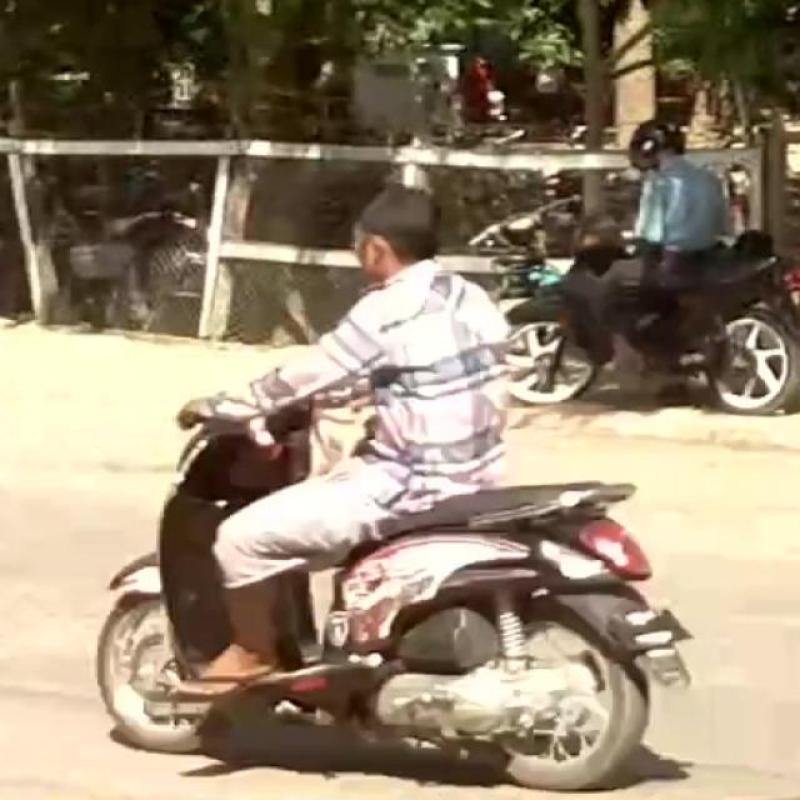nohelmet: (338, 172, 493, 298)
